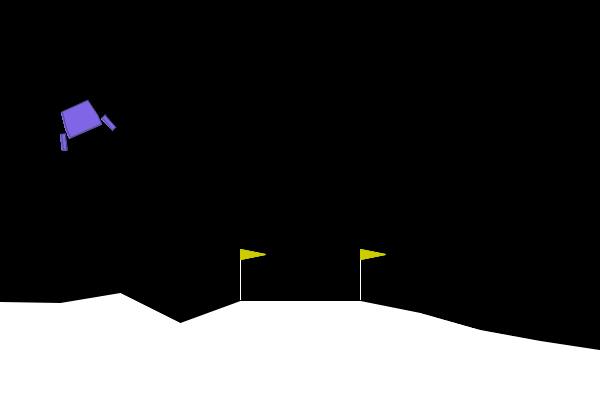lander: (46, 92, 117, 153)
